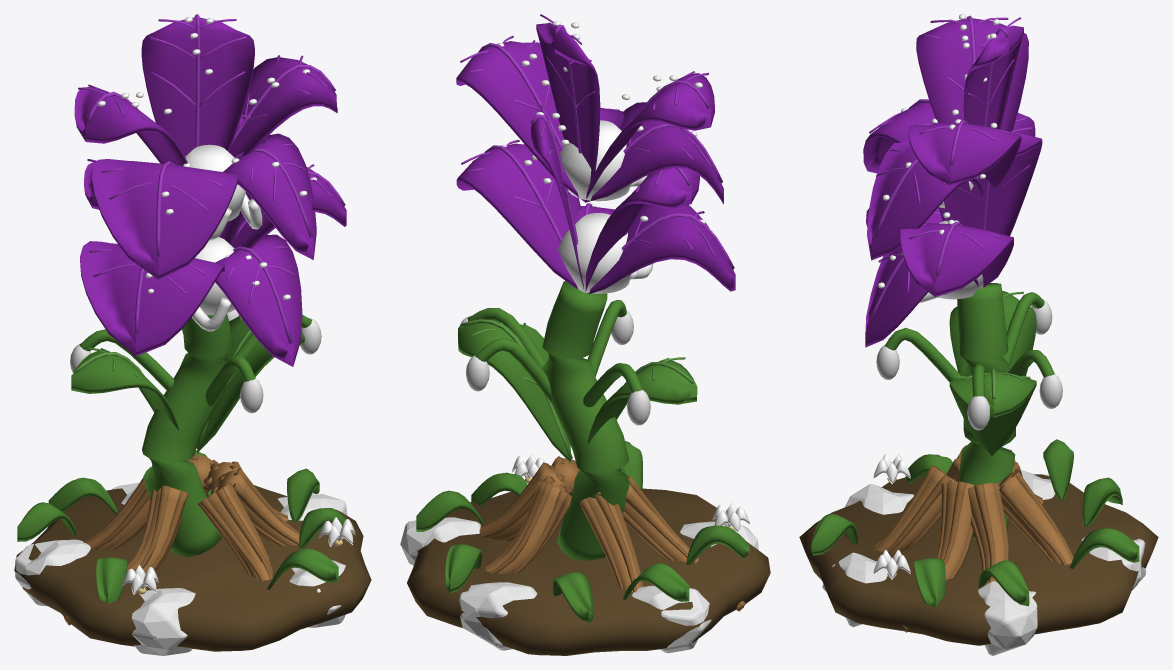
The model's file is orchid-4.fbx.
3 renders of one model, left to right at view 1: azimuth 30°, elevation 25°; view 2: azimuth 150°, elevation 25°; view 3: azimuth 270°, elevation 25°, orthographic. The views are drawn at different scales.
Parts seen in each view (by area): view 1: Petals_Petal, orchid-4_Organic, Turret_PortalBamboo, orchid-4_Bark, orchid-4_PortalBamboo, orchid-4_Stone, Barrel_Petal, Core_Glow, Barrel_Organic, orchid-4_Petal, Petals_Organic; view 2: Petals_Petal, orchid-4_Organic, Turret_PortalBamboo, orchid-4_Bark, orchid-4_PortalBamboo, orchid-4_Stone, Barrel_Petal, Core_Glow, orchid-4_Petal, Petals_Organic; view 3: Petals_Petal, orchid-4_Organic, Turret_PortalBamboo, orchid-4_Bark, orchid-4_PortalBamboo, orchid-4_Stone, Core_Glow, orchid-4_Petal, Petals_Organic.
Part boxes in pixels (x1,y1,x2,y2): Petals_Petal: (74,14,346,366); orchid-4_Organic: (14,485,371,651); Turret_PortalBamboo: (71,314,311,557); orchid-4_Bark: (63,452,311,625); orchid-4_PortalBamboo: (17,450,346,603); orchid-4_Stone: (15,483,347,655); Barrel_Petal: (185,144,245,315); Core_Glow: (70,309,321,413); Barrel_Organic: (192,193,262,331); orchid-4_Petal: (122,517,355,594); Petals_Organic: (97,17,317,299); Petals_Petal: (456,14,735,293); orchid-4_Organic: (407,477,770,655); Turret_PortalBamboo: (458,281,697,560); orchid-4_Bark: (479,456,745,611); orchid-4_PortalBamboo: (416,441,749,623); orchid-4_Stone: (400,517,758,653); Barrel_Petal: (558,120,630,293); Core_Glow: (459,310,650,425); orchid-4_Petal: (512,454,749,532); Petals_Organic: (497,21,712,231); Petals_Petal: (863,15,1042,347); orchid-4_Organic: (799,474,1158,645); Turret_PortalBamboo: (885,283,1054,536); orchid-4_Bark: (873,445,1073,632); orchid-4_PortalBamboo: (811,439,1139,607); orchid-4_Stone: (822,470,1146,655); Core_Glow: (876,299,1062,430); orchid-4_Petal: (873,454,910,579); Petals_Organic: (878,14,999,288).
Size of the model in its own units: 82.07 by 145 by 82.7.
